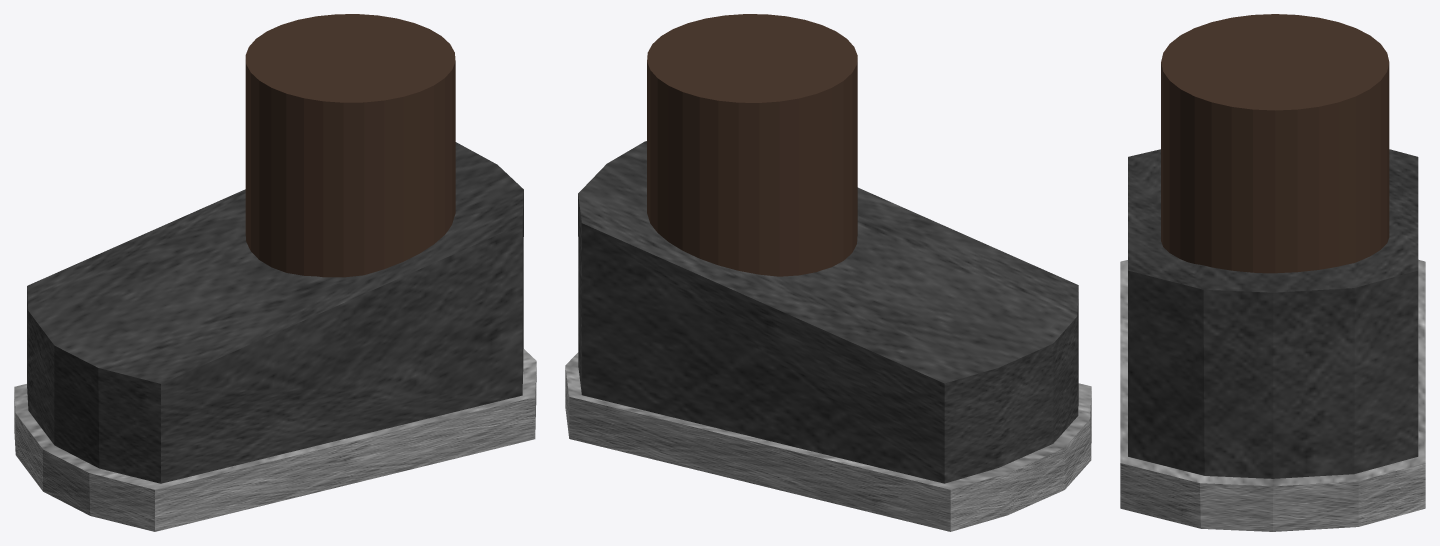
File: StatusChanger_Speed_Obj.fbx
3 renders of one model, left to right at view 1: azimuth 30°, elevation 25°; view 2: azimuth 150°, elevation 25°; view 3: azimuth 270°, elevation 25°, orthographic. The views are drawn at different scales.
Parts seen in each view (by area): view 1: 立方体; view 2: 立方体; view 3: 立方体.
Part boxes in pixels (left/top/right/bottom): 立方体: left=14, top=14, right=536, bottom=531; 立方体: left=565, top=14, right=1091, bottom=531; 立方体: left=1120, top=14, right=1425, bottom=531.
Bounding box in the file's own units: 3.83 × 2.79 × 2.
